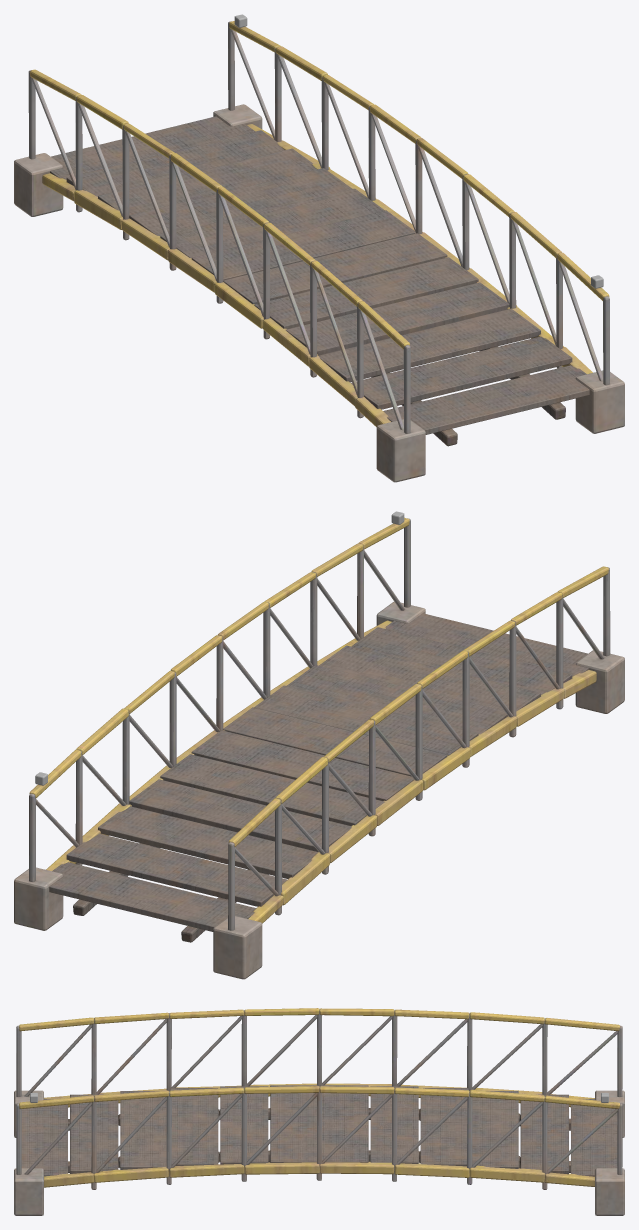
The model's file is bridge.glb.
The picture shows the model from 3 angles, top to bottom: view 1: azimuth 30°, elevation 25°; view 2: azimuth 150°, elevation 25°; view 3: azimuth 270°, elevation 25°; orthographic projection. The views are drawn at different scales.
Parts seen in each view (by area): view 1: bridge; view 2: bridge; view 3: bridge.
Part boxes in pixels (bbox=[...]): bridge: bbox=[14, 21, 624, 482]; bridge: bbox=[14, 517, 624, 979]; bridge: bbox=[14, 1008, 624, 1215].
Bounding box in the file's own units: 2.14 × 1.36 × 6.1.
2 materials, 1 textured.
